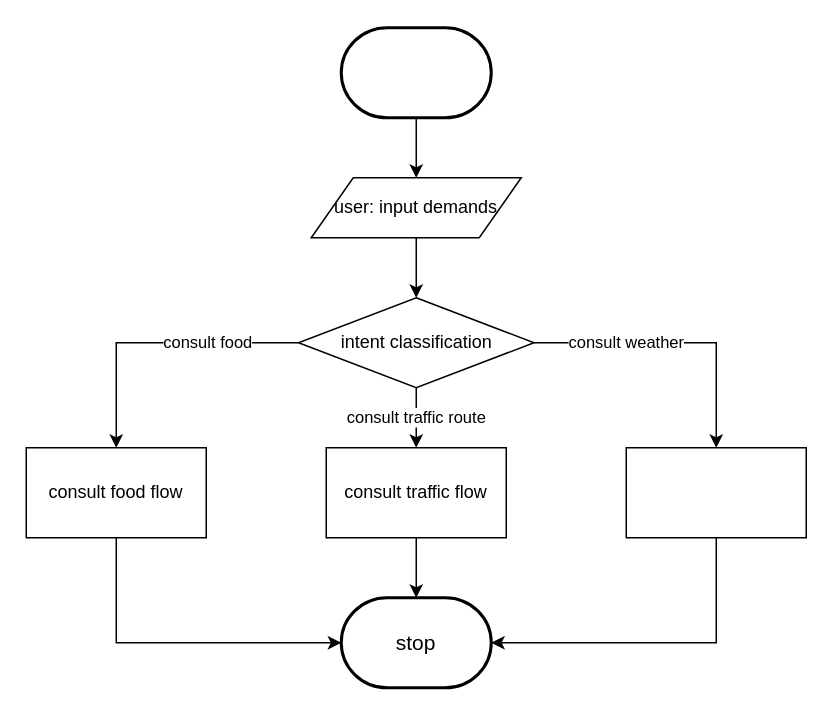
Some shapes in this 833 by 714 pixel diagram are drawn without their labels. The centre of each missing label's shape, as x and y in pixels:
"consult weather flow" goes at (715,492).
"start" goes at (415,72).
